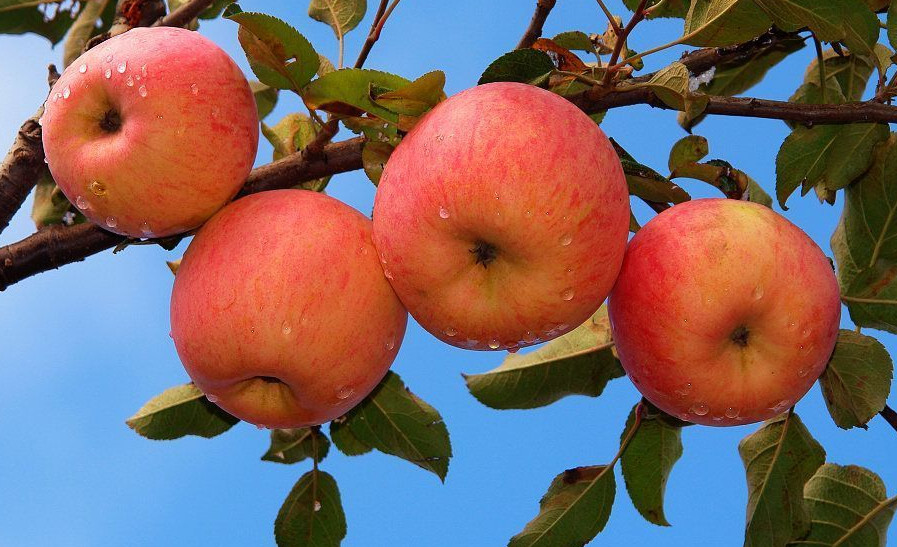apple: (385, 92, 620, 332), (41, 24, 254, 233), (627, 203, 833, 415), (192, 201, 392, 413)
